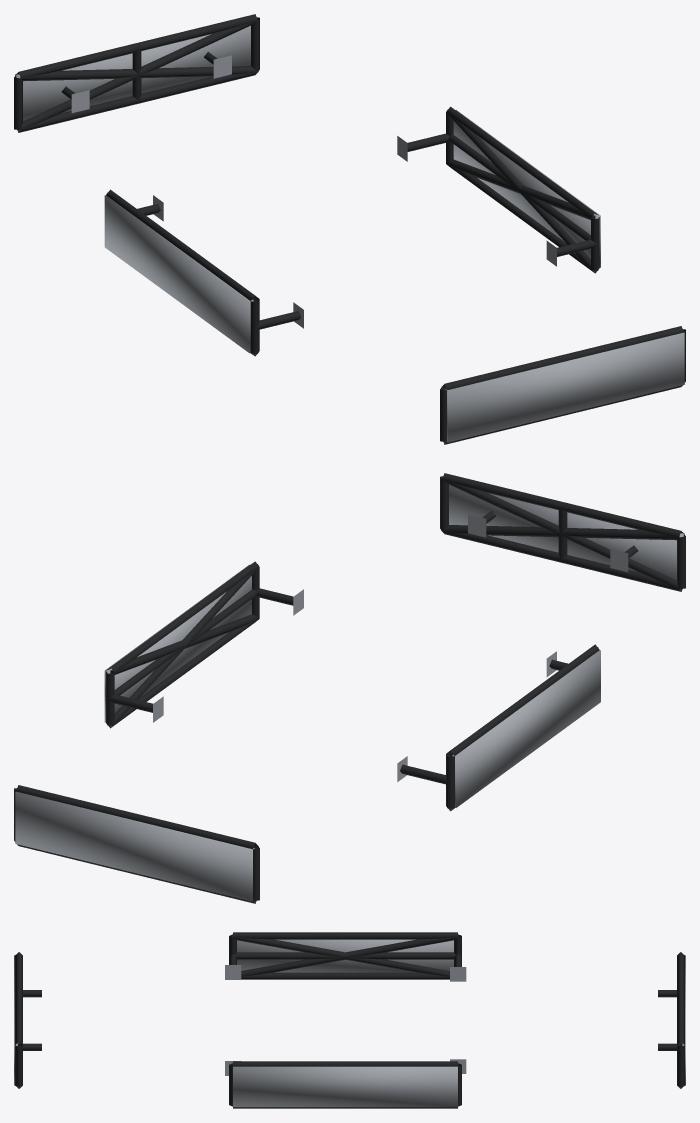
File: corsalto_poeira_protecao.glb
3 views of the same model, one above another, from view 1: azimuth 30°, elevation 25°; view 2: azimuth 150°, elevation 25°; view 3: azimuth 270°, elevation 25° (orthographic). The views are drawn at different scales.
Visible parts, largest first — view 1: Protection_front_Level3_Details, Protection_left_Level3_Details, Protection_rear_Level1_Details, Protection_rear_Level3_Details, Protection_right_Level1_Details, Protection_rear_Level2_Details, Protection_right_Level2_Details, Protection_right_Level3_Details, Protection_front_Level1_Details, Protection_left_Level1_Details; view 2: Protection_rear_Level3_Details, Protection_left_Level3_Details, Protection_front_Level1_Details, Protection_front_Level3_Details, Protection_right_Level1_Details, Protection_front_Level2_Details, Protection_right_Level2_Details, Protection_right_Level3_Details, Protection_rear_Level1_Details, Protection_left_Level1_Details; view 3: Protection_right_Level3_Details, Protection_left_Level2_Details, Protection_left_Level1_Details, Protection_left_Level3_Details, Protection_right_Level1_Details, Protection_rear_Level1_Details, Protection_front_Level1_Details.
Part boxes in pixels (box(x1,y1,x2,y2)): Protection_front_Level3_Details: box(445, 332, 684, 442); Protection_left_Level3_Details: box(104, 195, 253, 353); Protection_rear_Level1_Details: box(14, 14, 259, 132); Protection_rear_Level3_Details: box(15, 25, 250, 121); Protection_right_Level1_Details: box(397, 106, 599, 273); Protection_rear_Level2_Details: box(16, 21, 257, 131); Protection_right_Level2_Details: box(446, 113, 598, 272); Protection_right_Level3_Details: box(453, 110, 600, 267); Protection_front_Level1_Details: box(440, 326, 685, 444); Protection_left_Level1_Details: box(106, 189, 303, 356); Protection_rear_Level3_Details: box(15, 791, 254, 901); Protection_left_Level3_Details: box(452, 650, 600, 807); Protection_front_Level1_Details: box(440, 473, 685, 591); Protection_front_Level3_Details: box(449, 484, 684, 580); Protection_right_Level1_Details: box(106, 561, 303, 728); Protection_front_Level2_Details: box(442, 480, 683, 590); Protection_right_Level2_Details: box(107, 568, 259, 727); Protection_right_Level3_Details: box(104, 564, 251, 722); Protection_rear_Level1_Details: box(14, 785, 259, 903); Protection_left_Level1_Details: box(397, 644, 599, 811); Protection_right_Level3_Details: box(233, 1066, 457, 1107); Protection_left_Level2_Details: box(232, 935, 458, 976); Protection_left_Level1_Details: box(225, 932, 466, 981); Protection_left_Level3_Details: box(237, 939, 453, 972); Protection_right_Level1_Details: box(225, 1059, 466, 1108); Protection_rear_Level1_Details: box(658, 952, 684, 1088); Protection_front_Level1_Details: box(15, 952, 41, 1088).
Bounding box in the file's own units: 2.13 × 0.354 × 4.54.
Materials: 1 (1 with a texture image).
